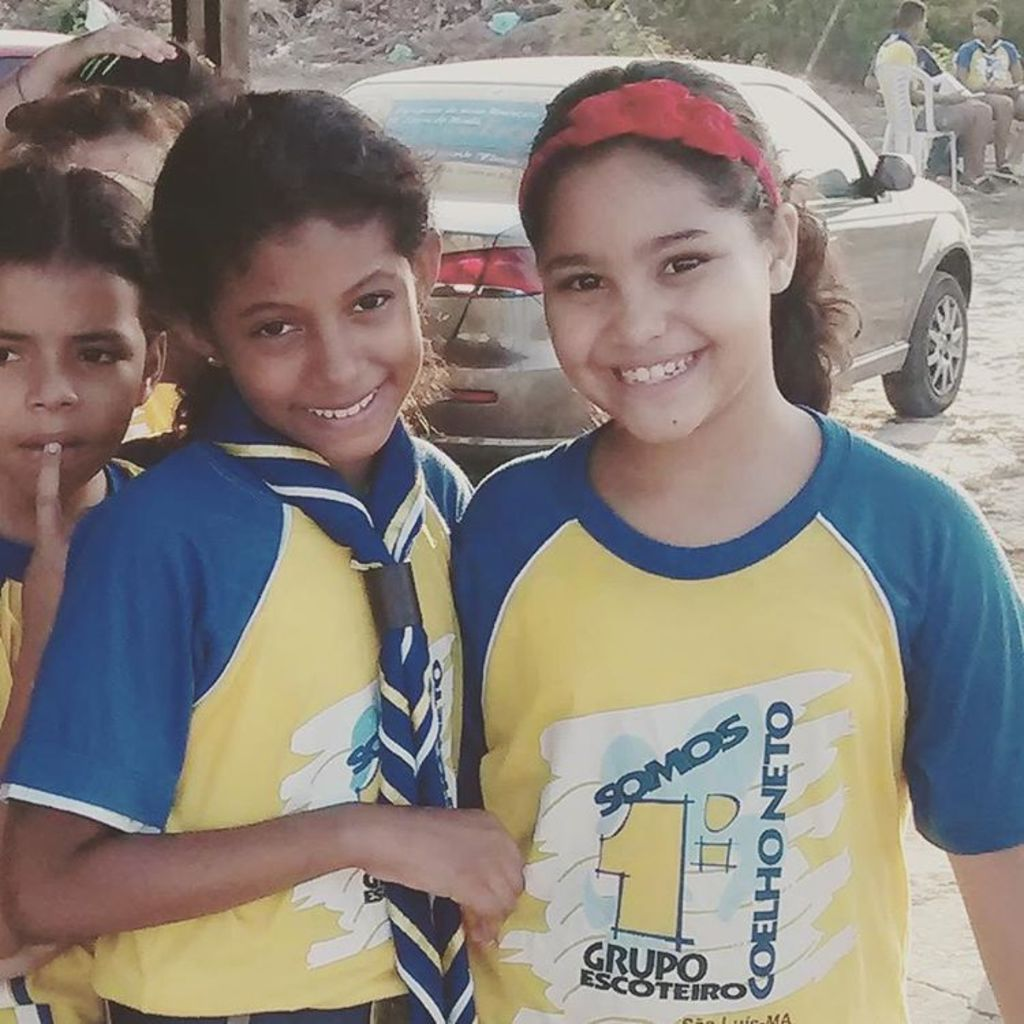cars: (331, 50, 970, 471)
